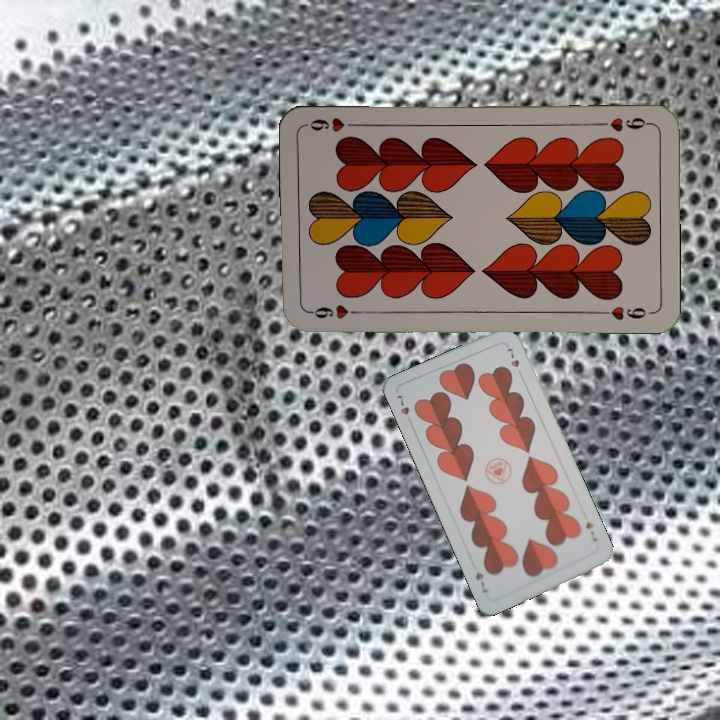H7: (392, 390, 415, 428), (581, 518, 600, 544)
H9: (594, 113, 653, 134), (305, 301, 364, 321)
